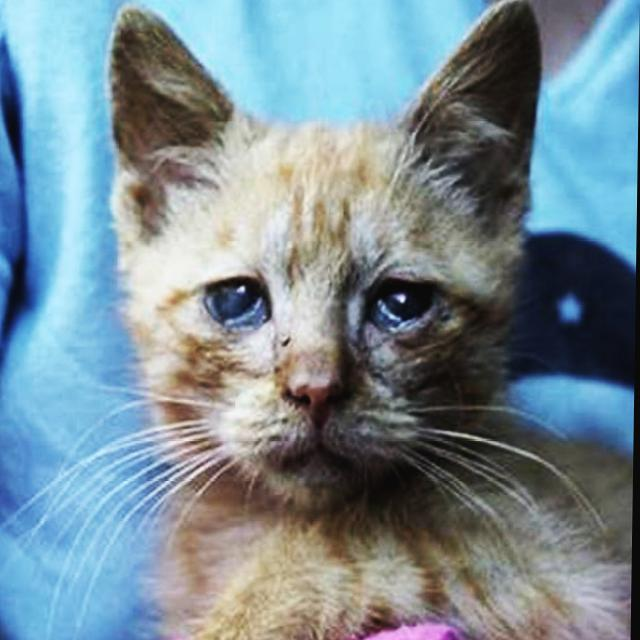eye_infection: (193, 278, 270, 339), (368, 281, 449, 338)
